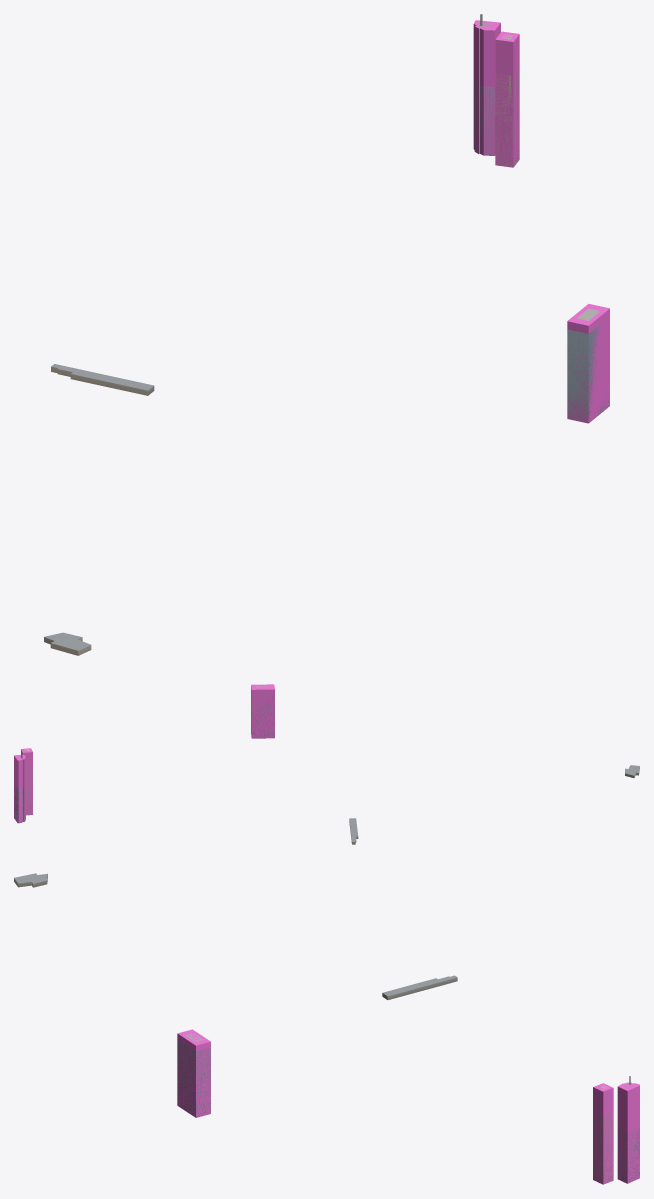
File: bld_16_15.fbx
The picture shows the model from 3 angles, top to bottom: view 1: azimuth 30°, elevation 25°; view 2: azimuth 150°, elevation 25°; view 3: azimuth 270°, elevation 25°; orthographic projection. The views are drawn at different scales.
Parts seen in each view (by area): view 1: bld_16_15_COL, bld_16_15_LOD0; view 2: bld_16_15_COL, bld_16_15_LOD0; view 3: bld_16_15_COL, bld_16_15_LOD0.
Boxes of the visible parts, x1=… form: bld_16_15_COL: x1=473, y1=20, x2=609, y2=423; bld_16_15_LOD0: x1=44, y1=14, x2=609, y2=655; bld_16_15_COL: x1=14, y1=684, x2=274, y2=823; bld_16_15_LOD0: x1=14, y1=685, x2=639, y2=844; bld_16_15_COL: x1=177, y1=1029, x2=639, y2=1184; bld_16_15_LOD0: x1=14, y1=873, x2=639, y2=1183.
Size of what is drawn, in the model's own units: 1421 by 218 by 1222.
